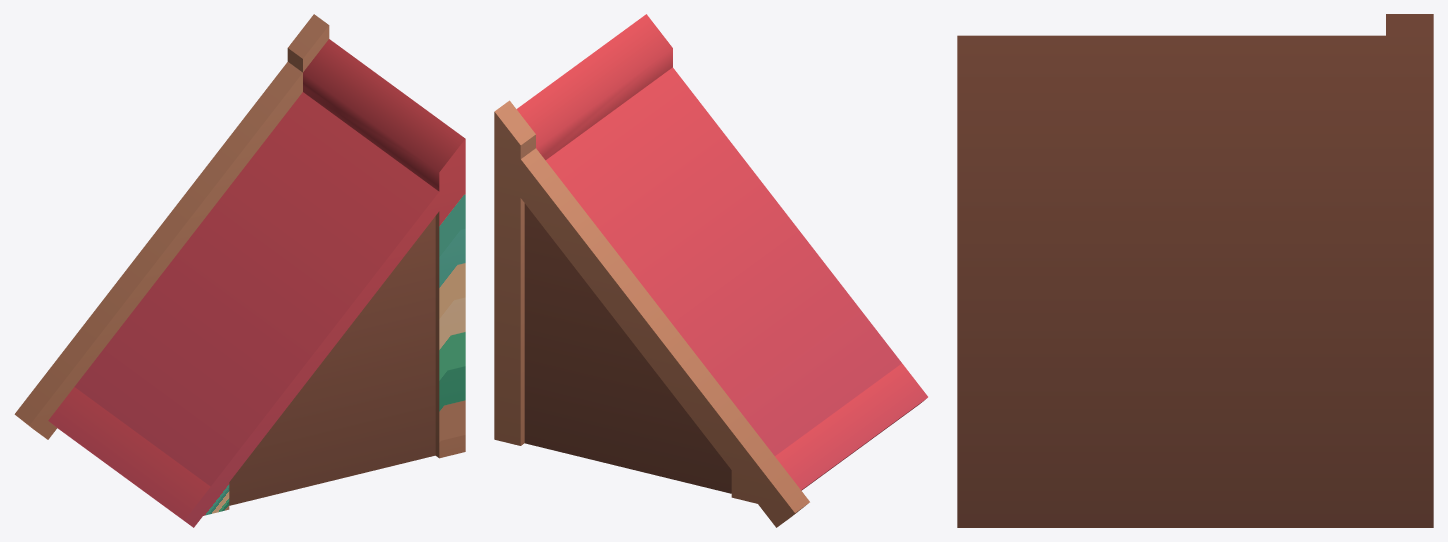
The model's file is roof-kn-roof-high-left.glb.
3 views of the same model, side by side, from view 1: azimuth 30°, elevation 25°; view 2: azimuth 150°, elevation 25°; view 3: azimuth 270°, elevation 25° (orthographic). The views are drawn at different scales.
Visible parts, largest first — view 1: roof-high-left; view 2: roof-high-left; view 3: roof-high-left.
Boxes of the visible parts, box(x1,y1,x2,y2) form: roof-high-left: box(14, 14, 465, 527); roof-high-left: box(494, 14, 927, 527); roof-high-left: box(957, 14, 1433, 527).
Size of the model in its own units: 3.42 by 3.78 by 3.
Materials: 1 (1 with a texture image).
